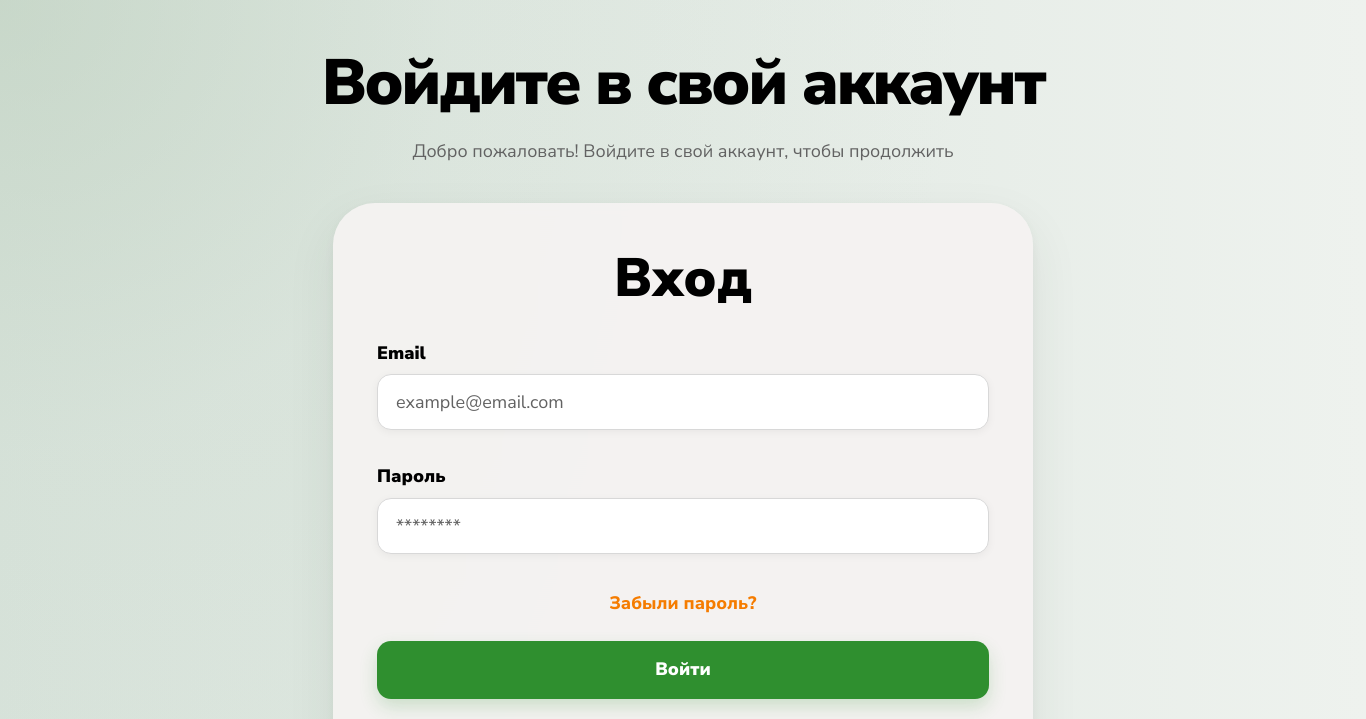
Test: LoginPage › shows server id error when user id is missing
The image size is (1366, 719).
Type "test@mail.com" into the field labelled "Email" at x=683, y=402, box [377,374,989,430]
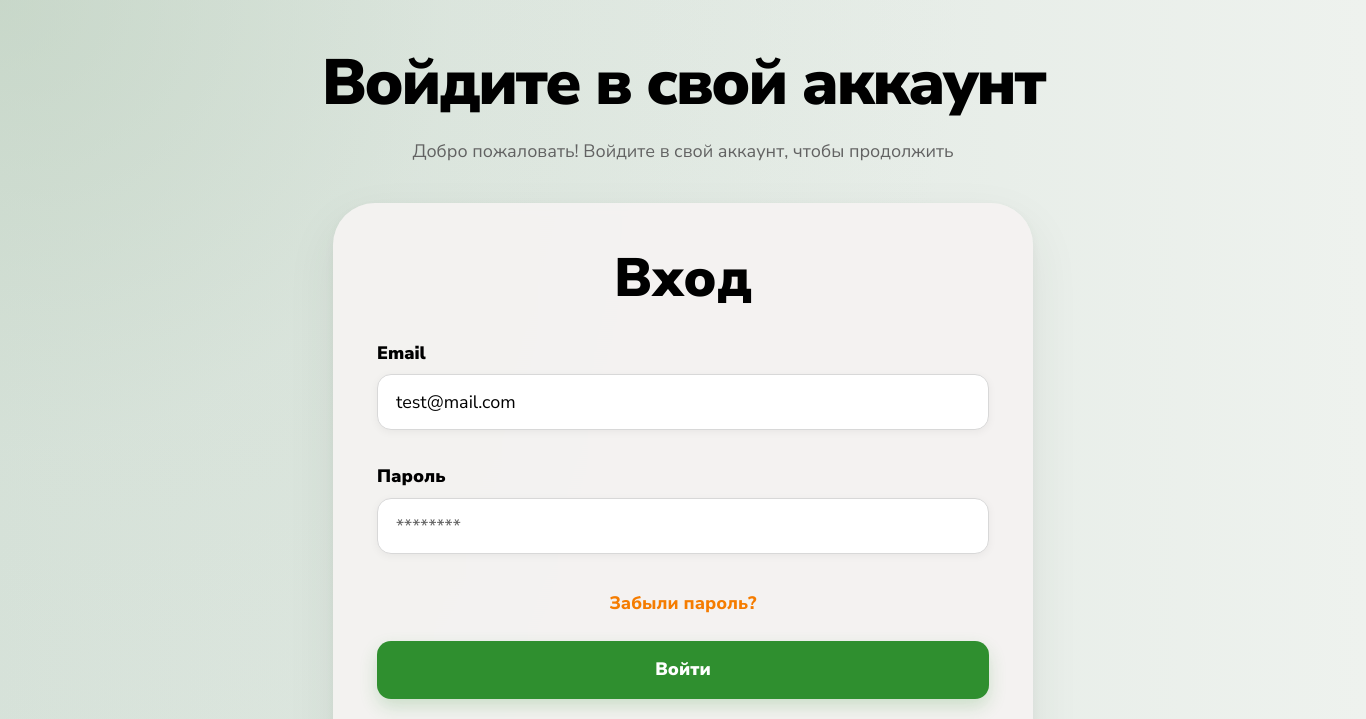
Type "12345678" into the password field labelled "Пароль" at x=683, y=526, box [377,498,989,554]
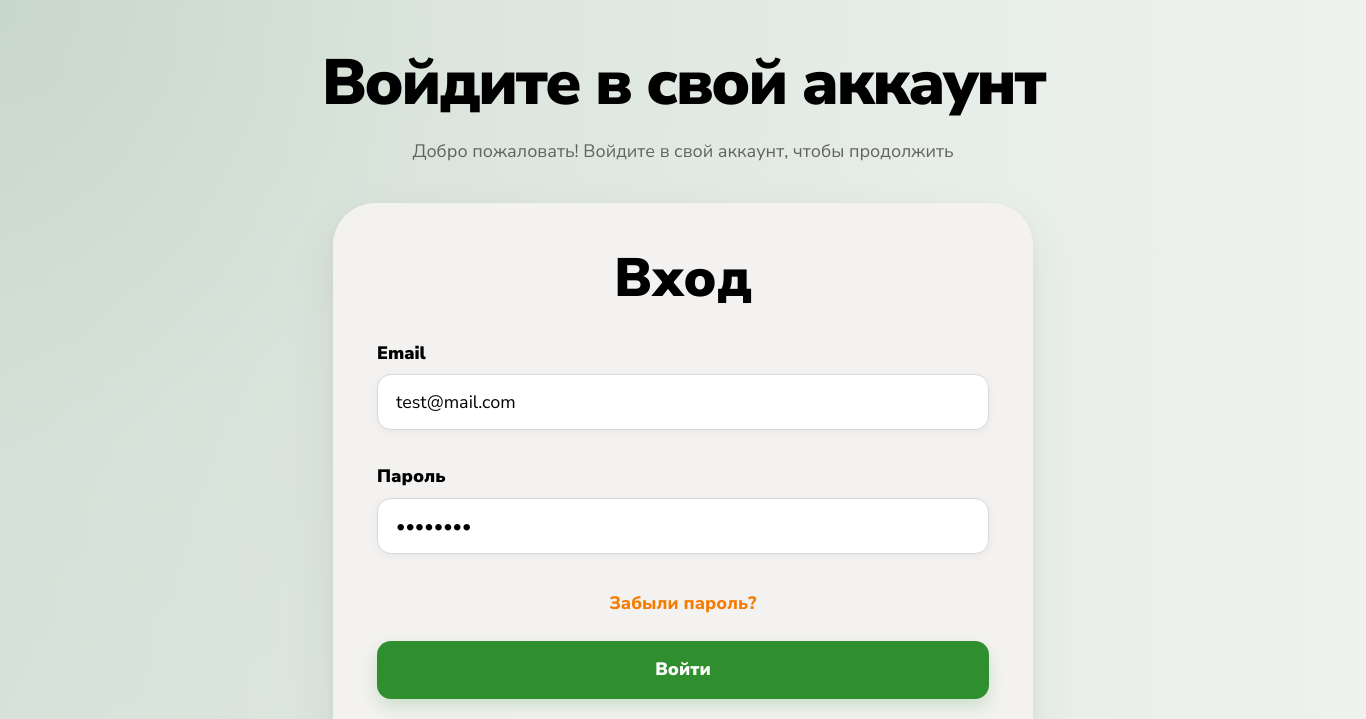
Click the button "Войти" at x=683, y=670, box [377,641,989,699]
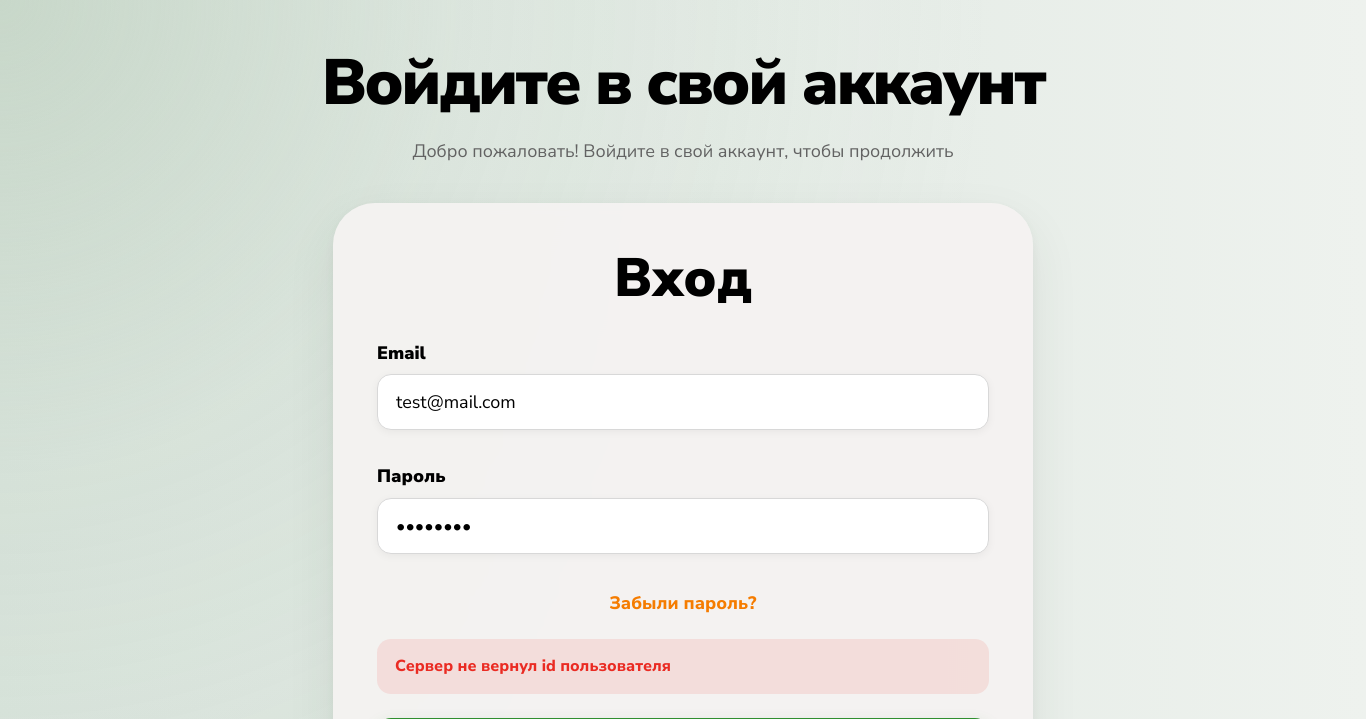
expect the text "Сервер не вернул id пользователя" is shown: met, box [377,639,989,694]
